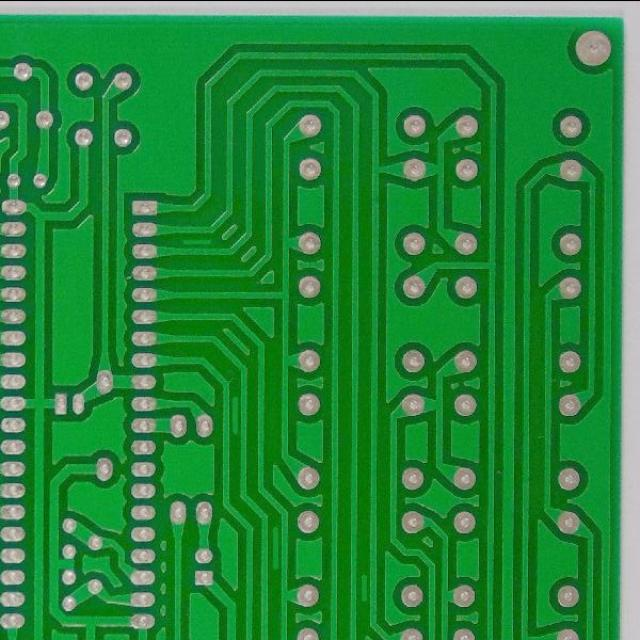Spurious_Cooper: (270, 523, 280, 574), (230, 392, 240, 438), (358, 569, 369, 606), (180, 237, 213, 246)
